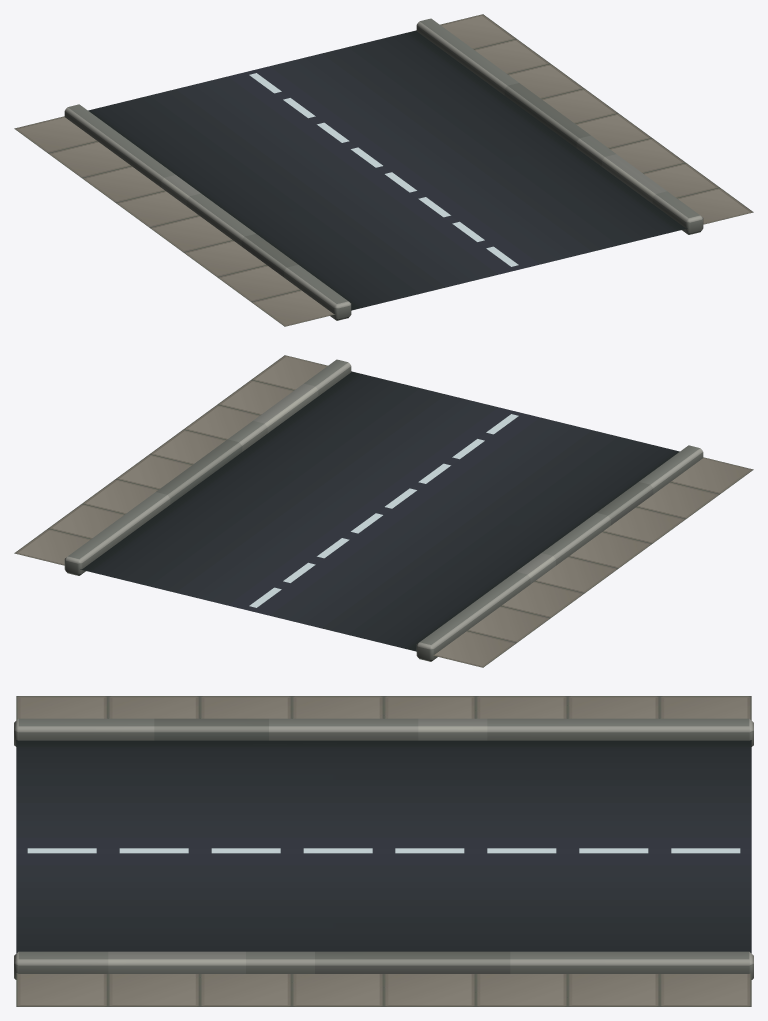
The model's file is straight.glb.
3 views of the same model, one above another, from view 1: azimuth 30°, elevation 25°; view 2: azimuth 150°, elevation 25°; view 3: azimuth 270°, elevation 25° (orthographic). The views are drawn at different scales.
Visible parts, largest first — view 1: road_section_x8.001, road_section_x8_sidewalk, road_section_x8; view 2: road_section_x8.001, road_section_x8_sidewalk, road_section_x8; view 3: road_section_x8.001, road_section_x8_sidewalk, road_section_x8.
Part boxes in pixels (x1,y1,x2,y2): road_section_x8.001: (88, 30, 687, 310); road_section_x8_sidewalk: (14, 14, 753, 326); road_section_x8: (64, 18, 703, 320); road_section_x8.001: (80, 371, 679, 651); road_section_x8_sidewalk: (14, 355, 753, 667); road_section_x8: (64, 359, 703, 661); road_section_x8.001: (16, 740, 751, 953); road_section_x8_sidewalk: (16, 696, 751, 1006); road_section_x8: (14, 718, 753, 979).
Bounding box in the file's own units: 16 × 0.55 × 16.1.
3 materials, 3 textured.
